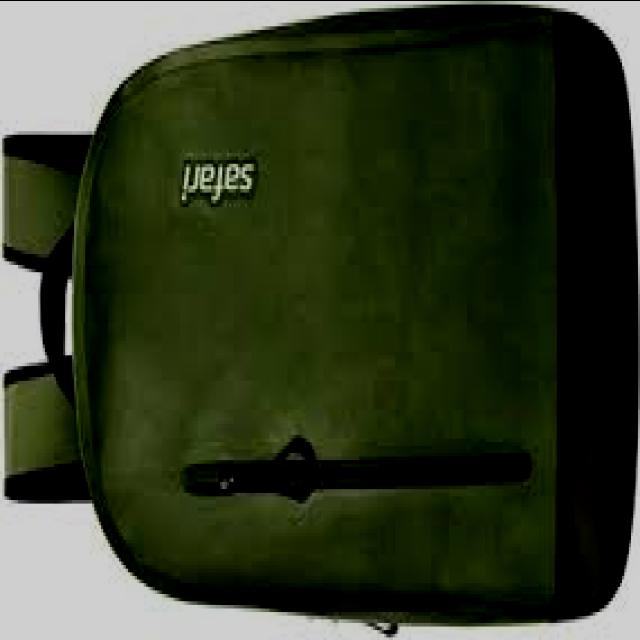backpack: (1, 5, 639, 638)
